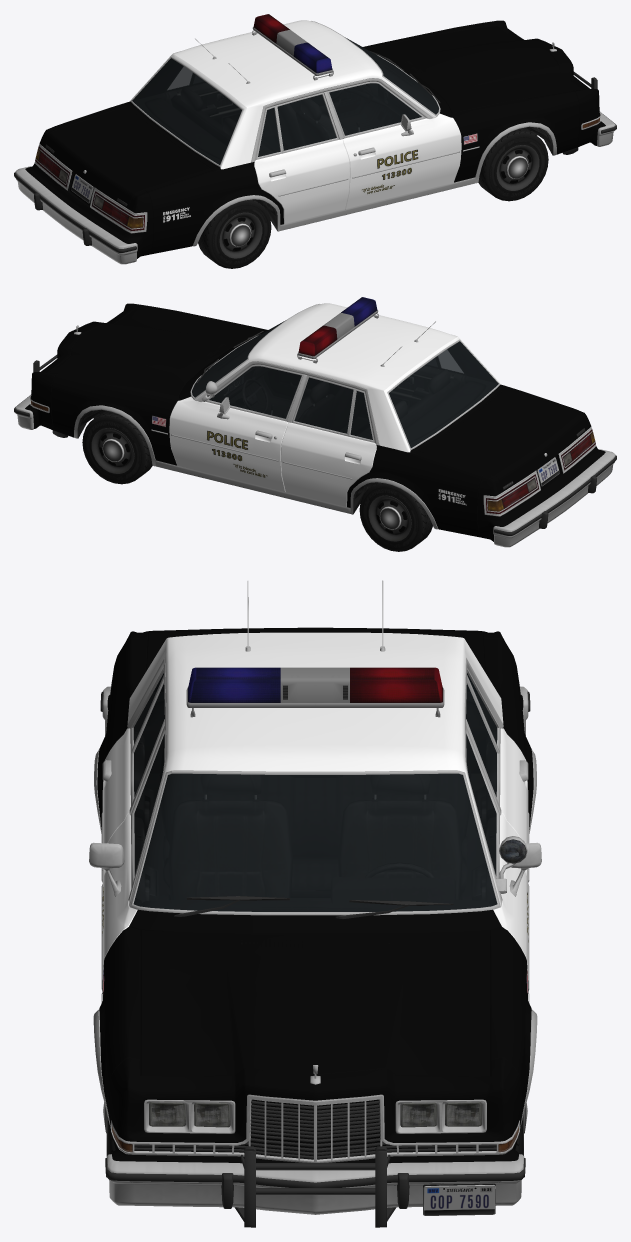
File: police.glb
The picture shows the model from 3 angles, top to bottom: view 1: azimuth 30°, elevation 25°; view 2: azimuth 150°, elevation 25°; view 3: azimuth 270°, elevation 25°; orthographic projection. The views are drawn at different scales.
Visible parts, largest first — view 1: Negotiator80_Body_Negotiator80_Bodymat_0, Negotiator80_Interior_UCB_Interiors_2_0, Negotiator80_Hood_Negotiator80_Bodymat_0, Negotiator80_bottom_UCB_BOTTOM_0, Negotiator80_Trunk_door_Negotiator80_Bodymat_0, Negotiator80_Glass_back_UCB_Lights_and_Glass_Transperent_0, Negotiator80_WheelStock_FR_RB1c_Tire_1k_0, Negotiator80_WheelStock_RR_RB1c_Tire_1k_0, Negotiator80_Bodyglass_UCB_Lights_and_Glass_Transperent_0, Negotiator80_Bumper_Rear_UCB_BOTTOM_0, Negotiator80_Glass_Passanger_UCB_Lights_and_Glass_Transperen, Negotiator80_Lightbar_UCB_Lights_and_Glass_0 (+5 smaller); view 2: Negotiator80_Body_Negotiator80_Bodymat_0, Negotiator80_Interior_UCB_Interiors_2_0, Negotiator80_Hood_Negotiator80_Bodymat_0, Negotiator80_bottom_UCB_BOTTOM_0, Negotiator80_Trunk_door_Negotiator80_Bodymat_0, Negotiator80_Glass_back_UCB_Lights_and_Glass_Transperent_0, Negotiator80_WheelStock_FL_RB1c_Tire_1k_0, Negotiator80_WheelStock_RL_RB1c_Tire_1k_0, Negotiator80_Bodyglass_UCB_Lights_and_Glass_Transperent_0, Negotiator80_Bumper_Rear_UCB_BOTTOM_0, Negotiator80_Glass_Driver_UCB_Lights_and_Glass_Transperent_0, Negotiator80_Lightbar_UCB_Lights_and_Glass_0 (+5 smaller); view 3: Negotiator80_Body_Negotiator80_Bodymat_0, Negotiator80_Hood_Negotiator80_Bodymat_0, Negotiator80_Interior_UCB_Interiors_2_0, Negotiator80_Windshield_UCB_Lights_and_Glass_Transperent_0, Negotiator80_bottom_UCB_BOTTOM_0, Negotiator80_Bumper_Front_UCB_BOTTOM_0, Negotiator80_Lightbar_UCB_Lights_and_Glass_0, Negotiator80_Headlights_Glass_UCB_Lights_and_Glass_Transpere, Negotiator80_Bullbar_UCB_BOTTOM_0, Negotiator80_Headlights_UCB_Lights_and_Glass_0, Negotiator80_Bodyglass_UCB_Lights_and_Glass_Transperent_0, Negotiator80_Trunk_door_Negotiator80_Bodymat_0 (+4 smaller).
Part boxes in pixels (x1=…): Negotiator80_Body_Negotiator80_Bodymat_0: x1=25, y1=20, x2=605, y2=258; Negotiator80_Interior_UCB_Interiors_2_0: x1=133, y1=50, x2=438, y2=164; Negotiator80_Hood_Negotiator80_Bodymat_0: x1=366, y1=26, x2=582, y2=113; Negotiator80_bottom_UCB_BOTTOM_0: x1=34, y1=21, x2=600, y2=246; Negotiator80_Trunk_door_Negotiator80_Bodymat_0: x1=44, y1=107, x2=210, y2=208; Negotiator80_Glass_back_UCB_Lights_and_Glass_Transperent_0: x1=132, y1=58, x2=241, y2=164; Negotiator80_WheelStock_FR_RB1c_Tire_1k_0: x1=478, y1=127, x2=548, y2=201; Negotiator80_WheelStock_RR_RB1c_Tire_1k_0: x1=198, y1=199, x2=271, y2=268; Negotiator80_Bodyglass_UCB_Lights_and_Glass_Transperent_0: x1=194, y1=76, x2=336, y2=156; Negotiator80_Bumper_Rear_UCB_BOTTOM_0: x1=14, y1=166, x2=137, y2=264; Negotiator80_Glass_Passanger_UCB_Lights_and_Glass_Transperen: x1=329, y1=83, x2=421, y2=135; Negotiator80_Lightbar_UCB_Lights_and_Glass_0: x1=252, y1=14, x2=333, y2=80; Negotiator80_Body_Negotiator80_Bodymat_0: x1=25, y1=303, x2=605, y2=541; Negotiator80_Interior_UCB_Interiors_2_0: x1=192, y1=333, x2=497, y2=447; Negotiator80_Hood_Negotiator80_Bodymat_0: x1=48, y1=309, x2=264, y2=396; Negotiator80_bottom_UCB_BOTTOM_0: x1=30, y1=304, x2=596, y2=529; Negotiator80_Trunk_door_Negotiator80_Bodymat_0: x1=420, y1=390, x2=586, y2=491; Negotiator80_Glass_back_UCB_Lights_and_Glass_Transperent_0: x1=389, y1=341, x2=498, y2=447; Negotiator80_WheelStock_FL_RB1c_Tire_1k_0: x1=82, y1=410, x2=152, y2=484; Negotiator80_WheelStock_RL_RB1c_Tire_1k_0: x1=359, y1=482, x2=432, y2=551; Negotiator80_Bodyglass_UCB_Lights_and_Glass_Transperent_0: x1=294, y1=359, x2=436, y2=439; Negotiator80_Bumper_Rear_UCB_BOTTOM_0: x1=493, y1=449, x2=616, y2=547; Negotiator80_Glass_Driver_UCB_Lights_and_Glass_Transperent_0: x1=209, y1=366, x2=301, y2=418; Negotiator80_Lightbar_UCB_Lights_and_Glass_0: x1=297, y1=297, x2=378, y2=363; Negotiator80_Body_Negotiator80_Bodymat_0: x1=97, y1=631, x2=533, y2=1163; Negotiator80_Hood_Negotiator80_Bodymat_0: x1=140, y1=930, x2=490, y2=1076; Negotiator80_Interior_UCB_Interiors_2_0: x1=134, y1=693, x2=496, y2=911; Negotiator80_Windshield_UCB_Lights_and_Glass_Transperent_0: x1=133, y1=773, x2=497, y2=911; Negotiator80_bottom_UCB_BOTTOM_0: x1=89, y1=658, x2=541, y2=1162; Negotiator80_Bumper_Front_UCB_BOTTOM_0: x1=105, y1=1154, x2=525, y2=1214; Negotiator80_Lightbar_UCB_Lights_and_Glass_0: x1=186, y1=667, x2=444, y2=717; Negotiator80_Headlights_Glass_UCB_Lights_and_Glass_Transpere: x1=112, y1=1101, x2=518, y2=1152; Negotiator80_Bullbar_UCB_BOTTOM_0: x1=234, y1=1146, x2=396, y2=1227; Negotiator80_Headlights_UCB_Lights_and_Glass_0: x1=149, y1=1102, x2=481, y2=1126; Negotiator80_Bodyglass_UCB_Lights_and_Glass_Transperent_0: x1=133, y1=673, x2=497, y2=796; Negotiator80_Trunk_door_Negotiator80_Bodymat_0: x1=146, y1=627, x2=484, y2=671.
Size of the model in its own units: 4.98 by 1.6 by 1.87.
Materials: 8 (8 with a texture image).
